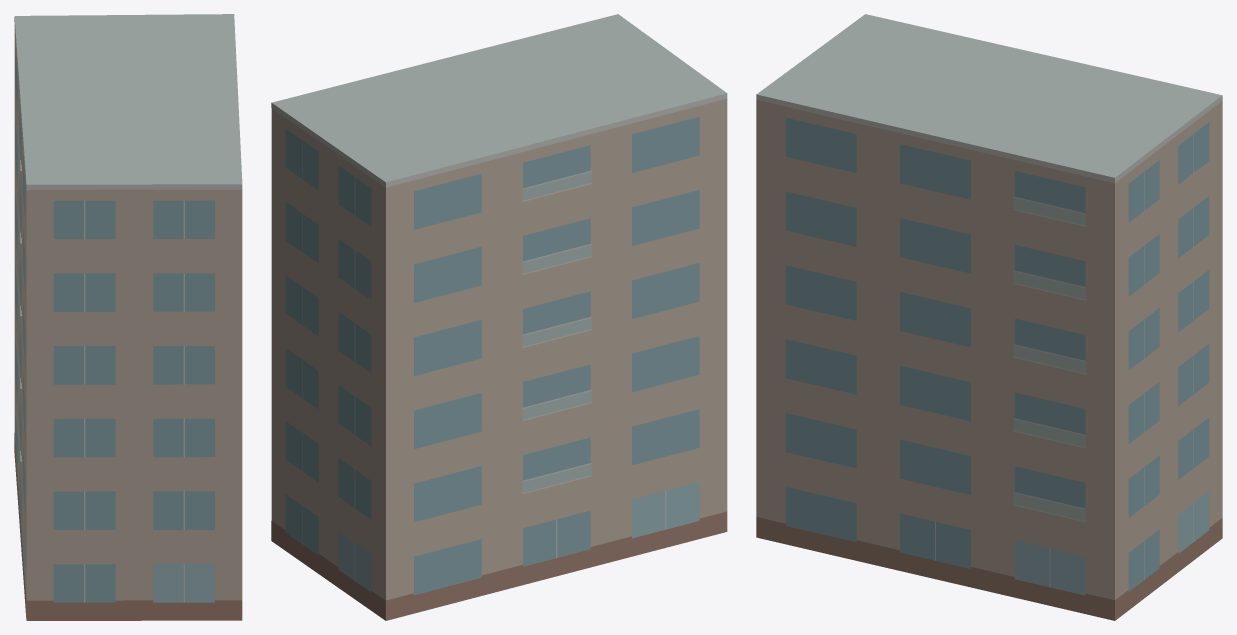
The model's file is survey-upis-32876803.glb.
The picture shows the model from 3 angles, left to right: view 1: azimuth 30°, elevation 25°; view 2: azimuth 150°, elevation 25°; view 3: azimuth 270°, elevation 25°; orthographic projection.
Visible parts, largest first — view 1: survey-upis-32876803.tmp; view 2: survey-upis-32876803.tmp; view 3: survey-upis-32876803.tmp.
Part boxes in pixels (bbox=[...]): survey-upis-32876803.tmp: bbox=[14, 14, 242, 620]; survey-upis-32876803.tmp: bbox=[271, 14, 727, 620]; survey-upis-32876803.tmp: bbox=[756, 14, 1222, 620].
Bounding box in the file's own units: 16.03 × 20.2 × 19.27.
